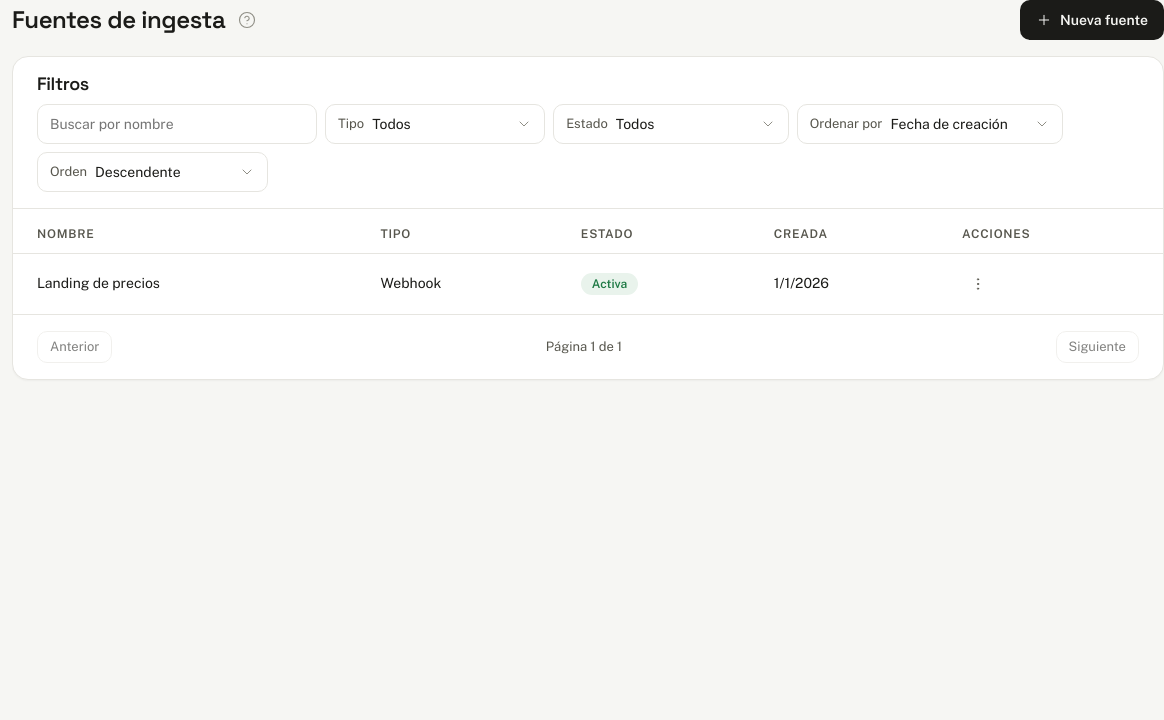
Test case: SourceListPage › eliminar › un DELETE fallido muestra el mensaje del backend
Expected: the text "Landing de precios" is shown, [13,253,365,314]
Click the button named "Más acciones" at point(978, 284), box [962,268,994,300]
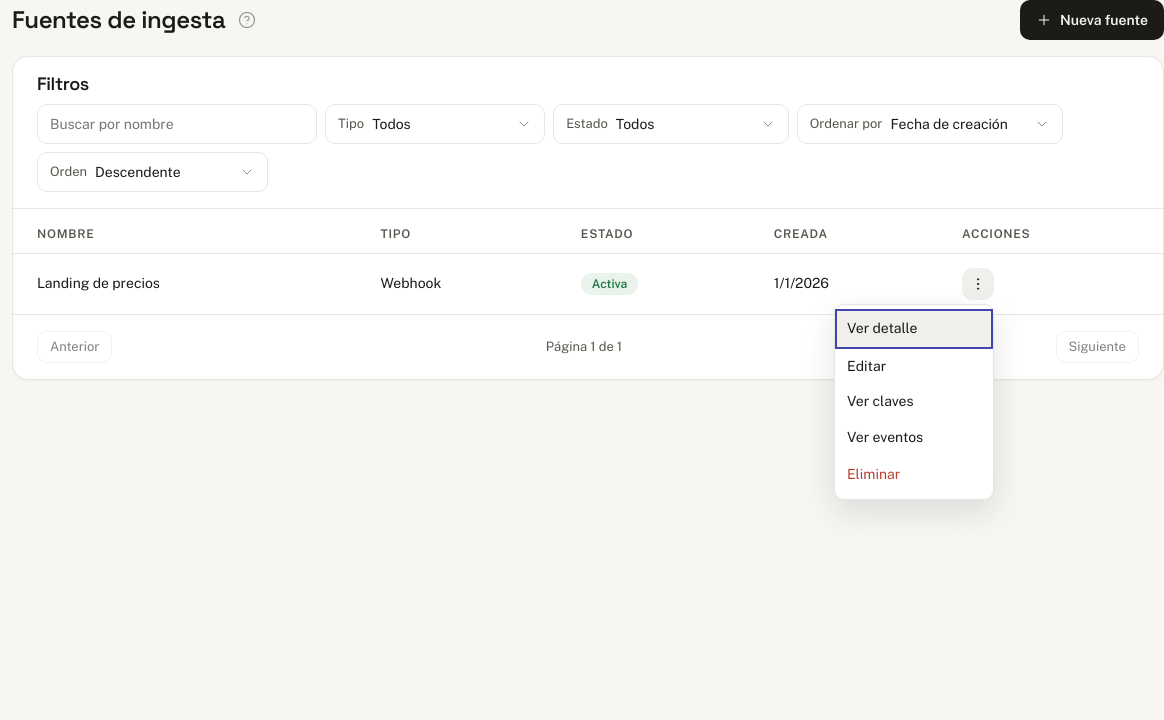
Click the menu item "Eliminar" at point(914, 475), box [835,455,993,495]
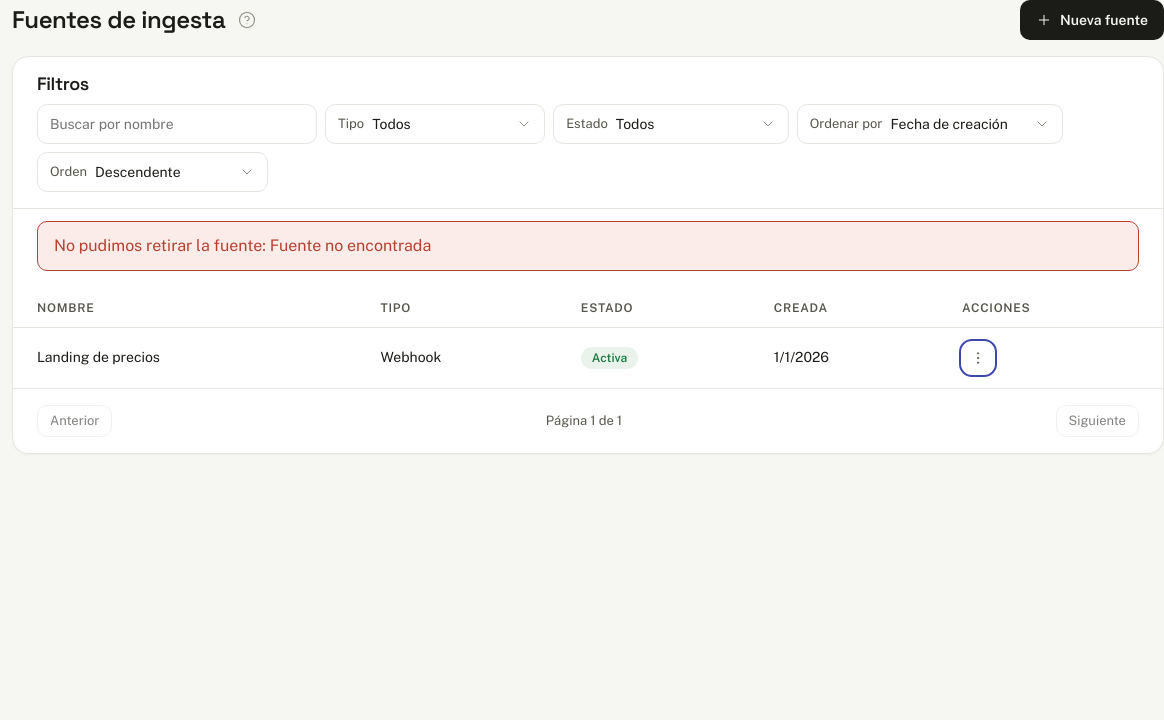
Expected: the message shows "Fuente no encontrada", [262,236,431,254]
